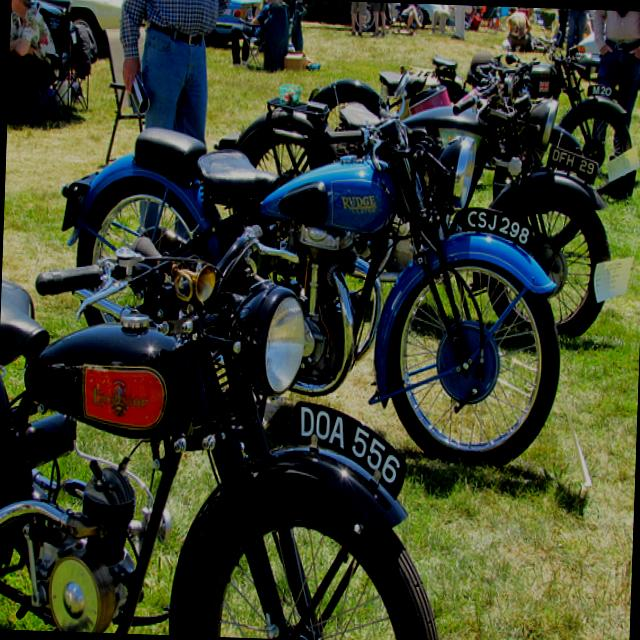Vehicle: (50, 65, 571, 469), (0, 191, 461, 640), (218, 39, 624, 340), (548, 50, 636, 162), (410, 100, 492, 196), (10, 0, 126, 32), (200, 0, 259, 45), (277, 0, 348, 21), (390, 2, 440, 26)
